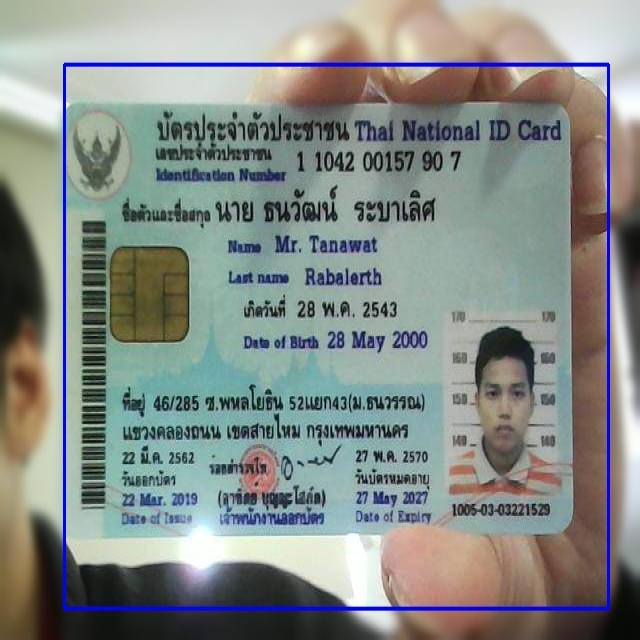Address_th: (117, 376, 432, 444)
Date_of_Birth: (323, 324, 432, 356)
Date_of_Expiry: (352, 486, 432, 512)
Date_of_Issue: (118, 488, 205, 510)
First_Name: (271, 228, 381, 258)
ID_Number: (293, 146, 465, 180)
Image: (442, 307, 565, 499)
Last_Name: (302, 263, 384, 291)
Thai_Name: (212, 182, 447, 236)
